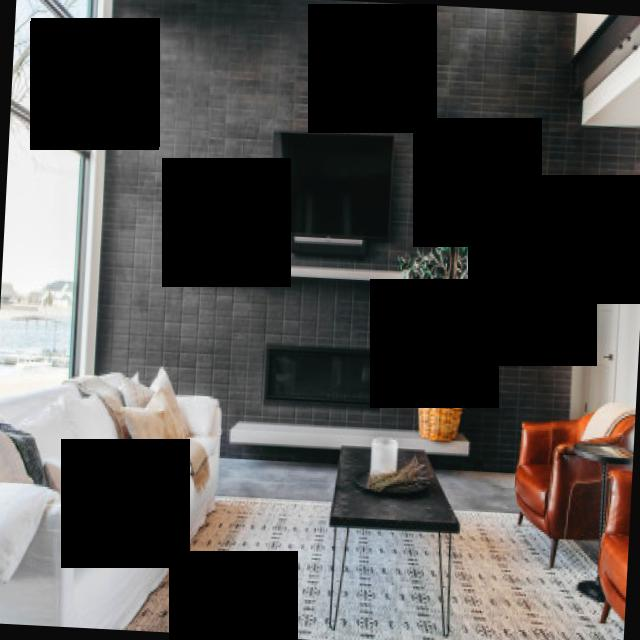modern chair: (506, 396, 636, 572)
modern desk: (321, 426, 468, 640)
modern sofa: (0, 355, 231, 635)
